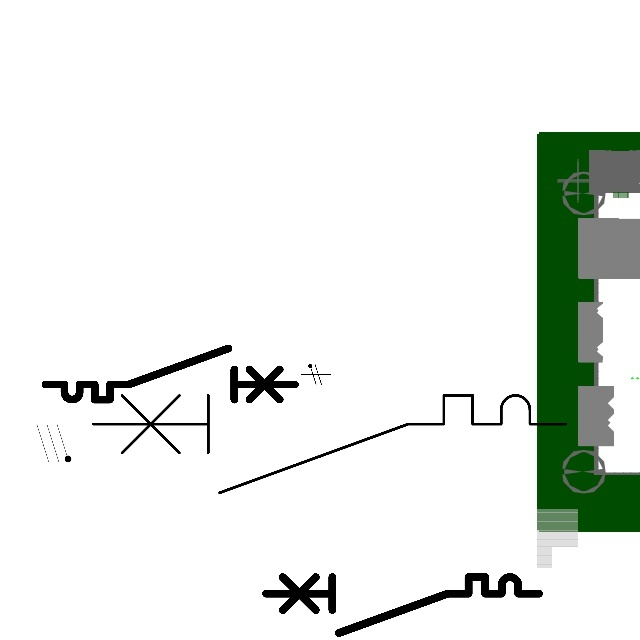interruptor_termomagnetico: (81, 383, 578, 504), (259, 570, 546, 640), (39, 342, 302, 406)
